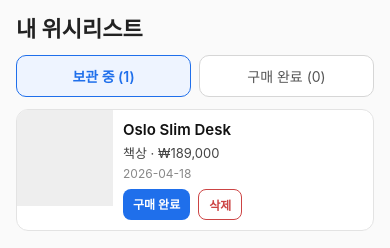
Test: WishlistScreen (UC-02-wishlist AC-39..AC-46) › AC-43: deleteFlow — confirm → DELETE → card disappears from both tabs
This screenshot has width=390, height=248.
Expected: the text "내 위시리스트" is shown, [16,16,143,42]
Click the element with test id "btn-delete-w1": coordinates (220, 204) [198,189,242,220]
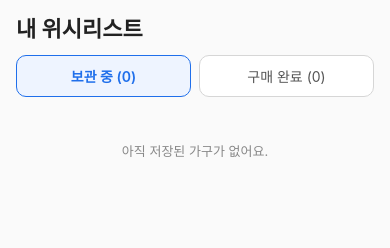
Result: the element with test id "wishlist-card-w1" is gone
